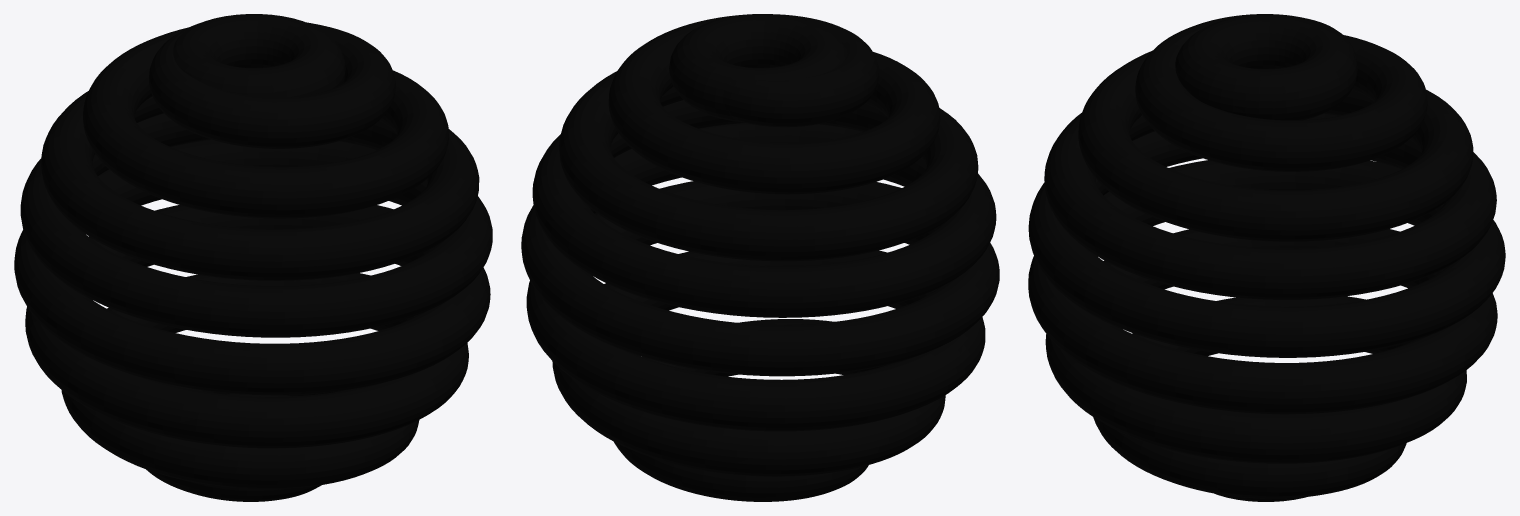
File: Quarantine.fbx
3 views of the same model, side by side, from view 1: azimuth 30°, elevation 25°; view 2: azimuth 150°, elevation 25°; view 3: azimuth 270°, elevation 25° (orthographic).
Parts seen in each view (by area): view 1: node_id37; view 2: node_id37; view 3: node_id37.
Part boxes in pixels (x1=…): node_id37: x1=14, y1=14, x2=492, y2=501; node_id37: x1=521, y1=14, x2=999, y2=501; node_id37: x1=1028, y1=14, x2=1505, y2=501.
Size of the model in its own units: 0.512 by 0.5054 by 0.511.
1 material, 1 textured.
